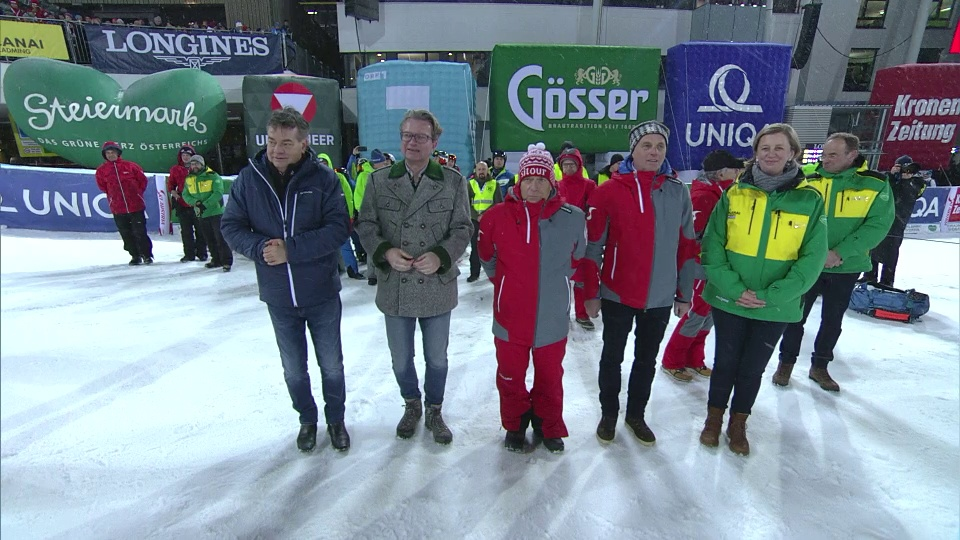goesser: (506, 47, 673, 139)
kronenzeitung: (886, 95, 959, 148)
longines: (110, 28, 280, 68)
steiermark: (9, 71, 222, 161)
uniqa: (667, 60, 783, 157), (1, 172, 150, 231), (910, 192, 943, 223)
unserheer: (262, 80, 334, 148)
